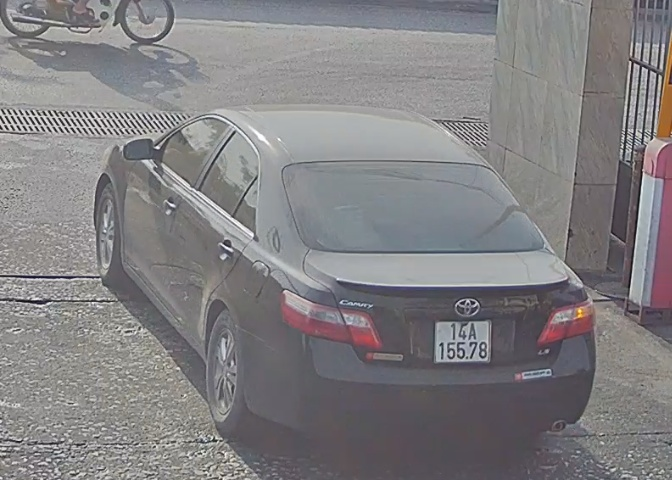vehicle plate: (433, 315, 496, 366)
